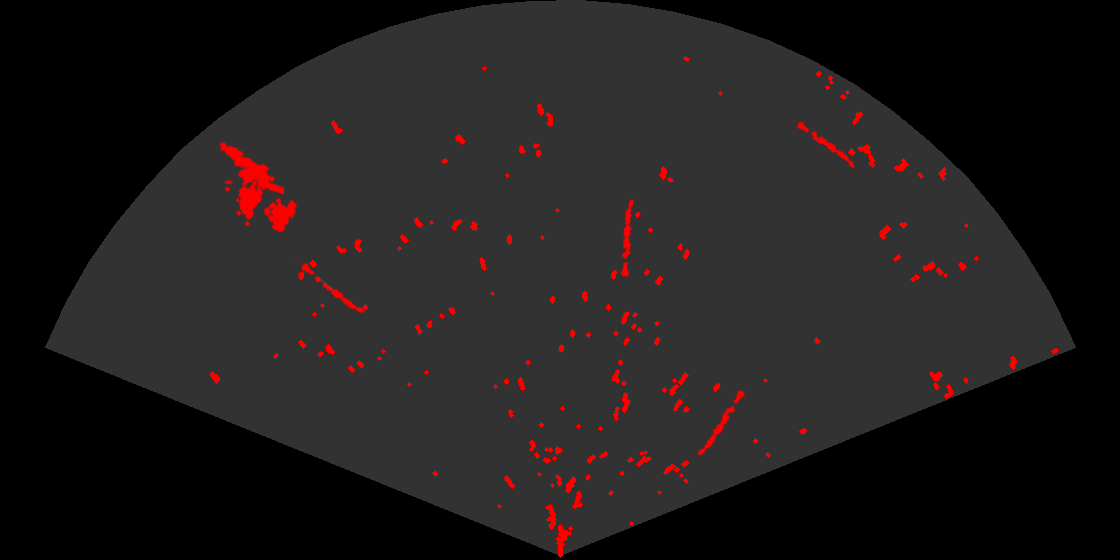cage: (225, 179, 299, 234)
chain: (290, 257, 366, 315), (792, 117, 863, 172), (696, 385, 749, 457), (619, 197, 635, 277)
frogman: (217, 140, 284, 197)
